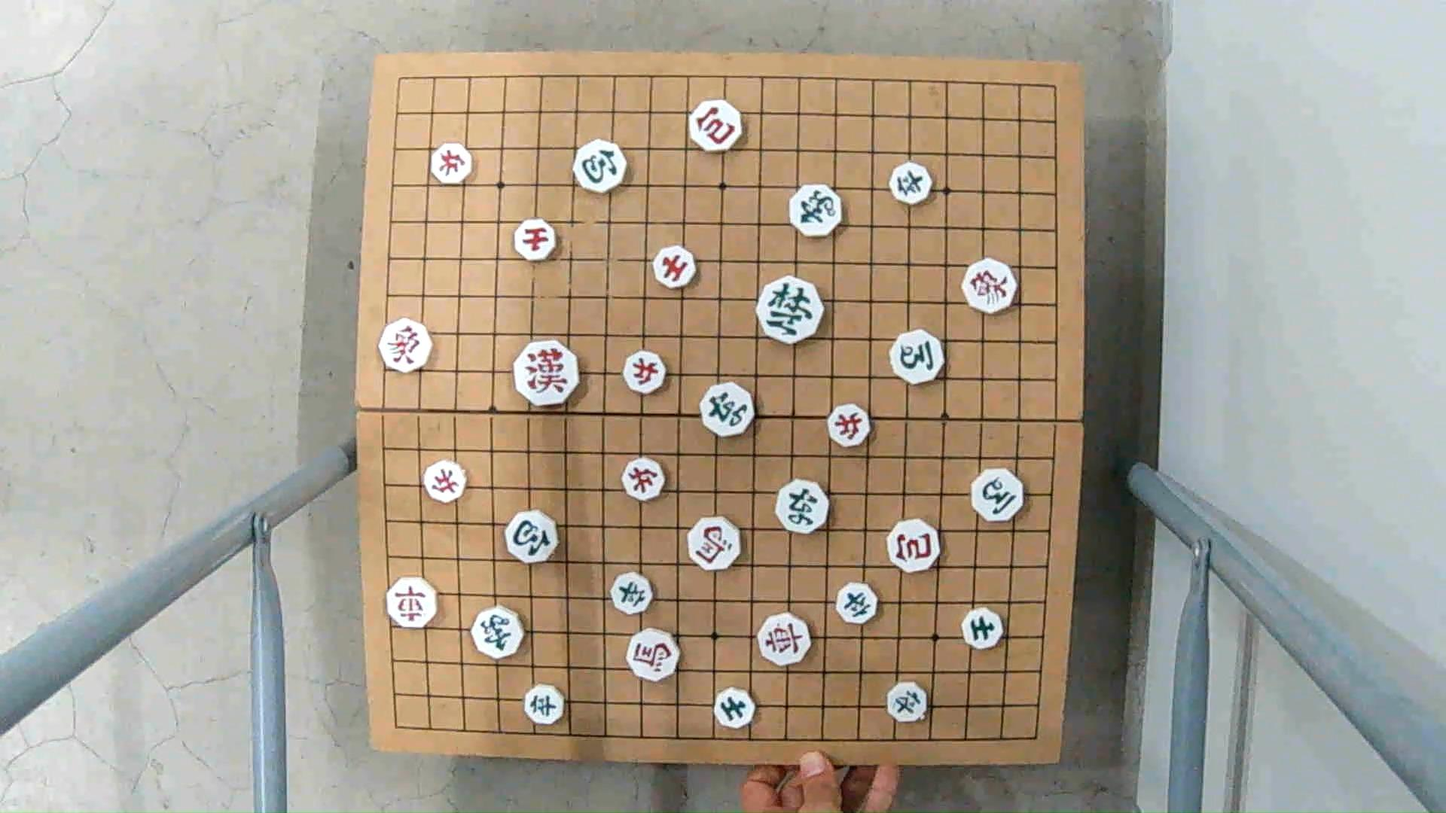cha_green: (701, 385, 753, 435), (779, 481, 825, 531)
cha_red: (757, 615, 814, 664), (384, 580, 440, 628)
jol_green: (609, 574, 656, 613), (888, 163, 932, 202), (884, 684, 929, 721), (836, 584, 877, 624), (526, 688, 563, 725)
jol_red: (825, 406, 871, 446), (430, 145, 475, 184), (621, 460, 664, 500), (423, 464, 469, 501), (625, 352, 665, 391)
ma_green: (889, 333, 950, 383), (972, 471, 1029, 520)
ma_red: (625, 629, 680, 678), (687, 519, 742, 567)
po_green: (505, 512, 563, 562), (572, 142, 627, 192)
po_red: (888, 522, 943, 571), (688, 103, 743, 151)
sa_green: (959, 610, 1005, 648), (712, 690, 756, 728)
sa_red: (651, 248, 698, 287), (514, 221, 555, 258)
sang_green: (471, 608, 528, 656), (790, 187, 844, 237)
sang_red: (960, 263, 1017, 312), (377, 323, 432, 372)
wang_green: (753, 281, 825, 342)
wang_red: (516, 344, 575, 400)
